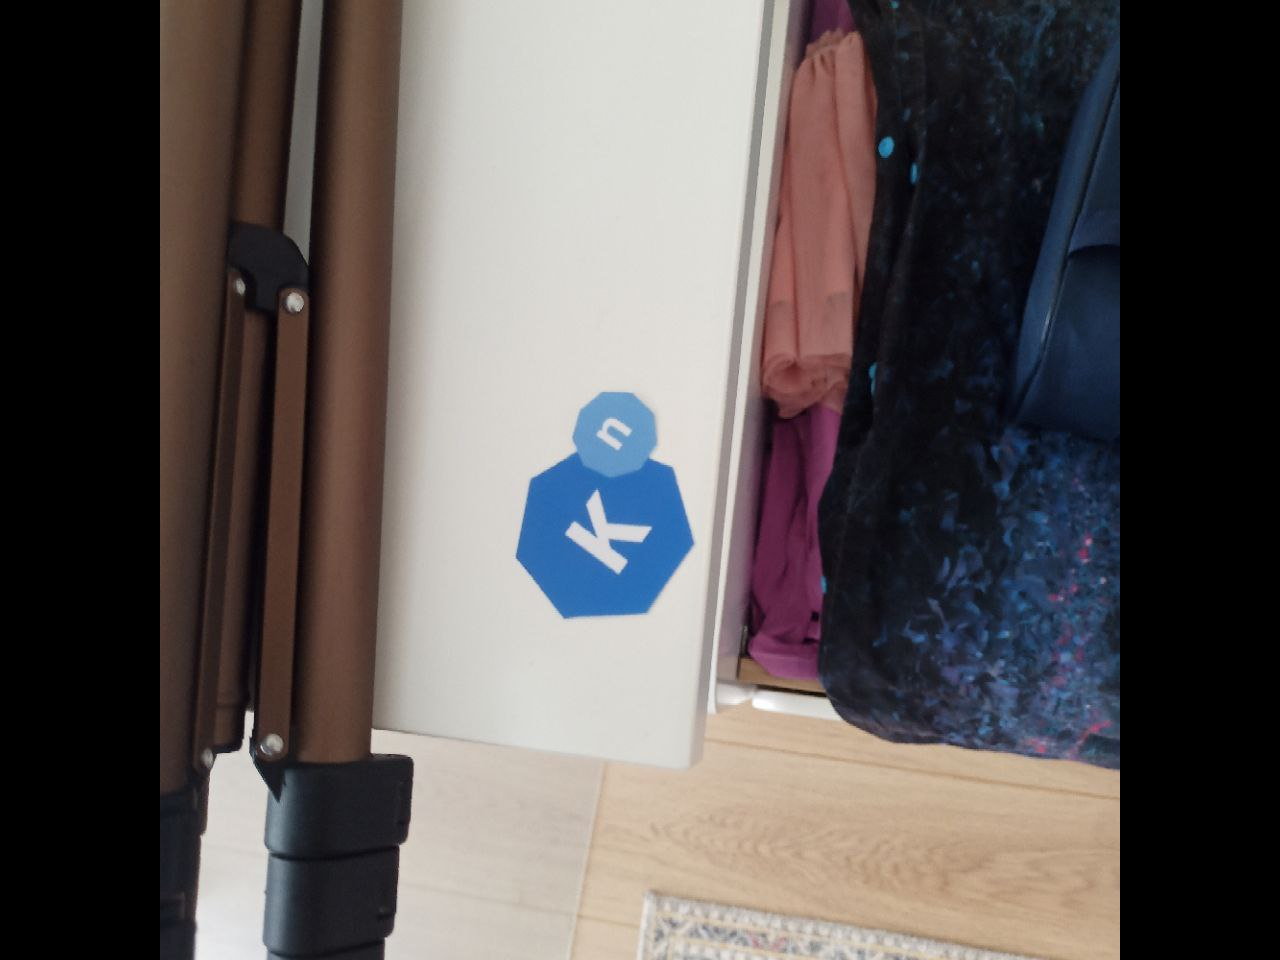knative: (514, 388, 697, 622)
